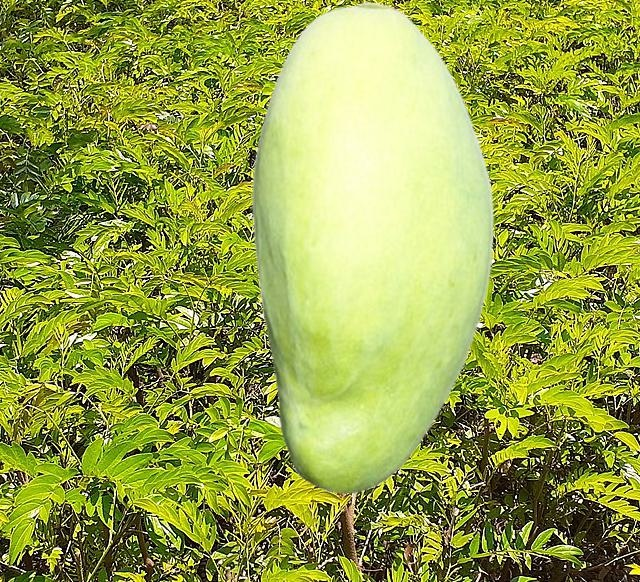green_mango: (251, 1, 493, 493)
